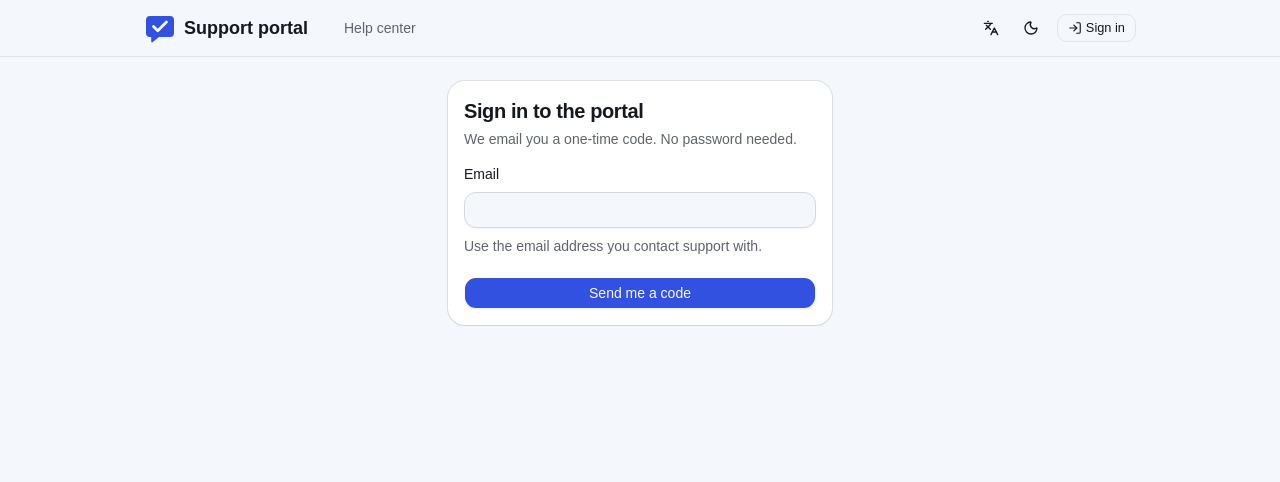
Portal sign-in › shows an error for a wrong code and stays on the sign-in page
Type "nour@customer.example" into the field labelled "Email" at (640, 210), box [464,192,816,228]
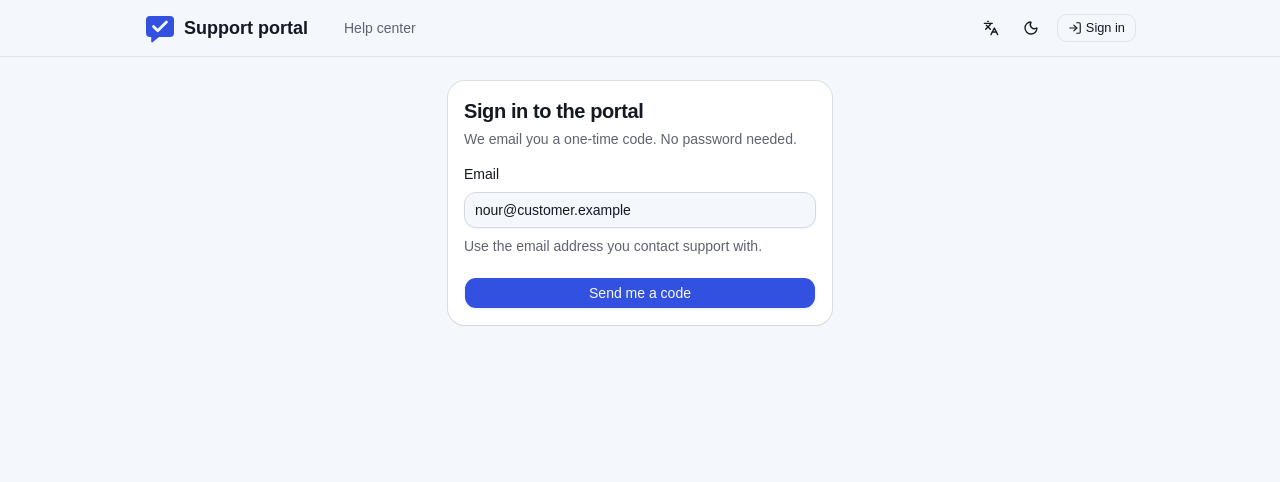
Click the button "Send me a code" at (640, 293), box [464,277,816,309]
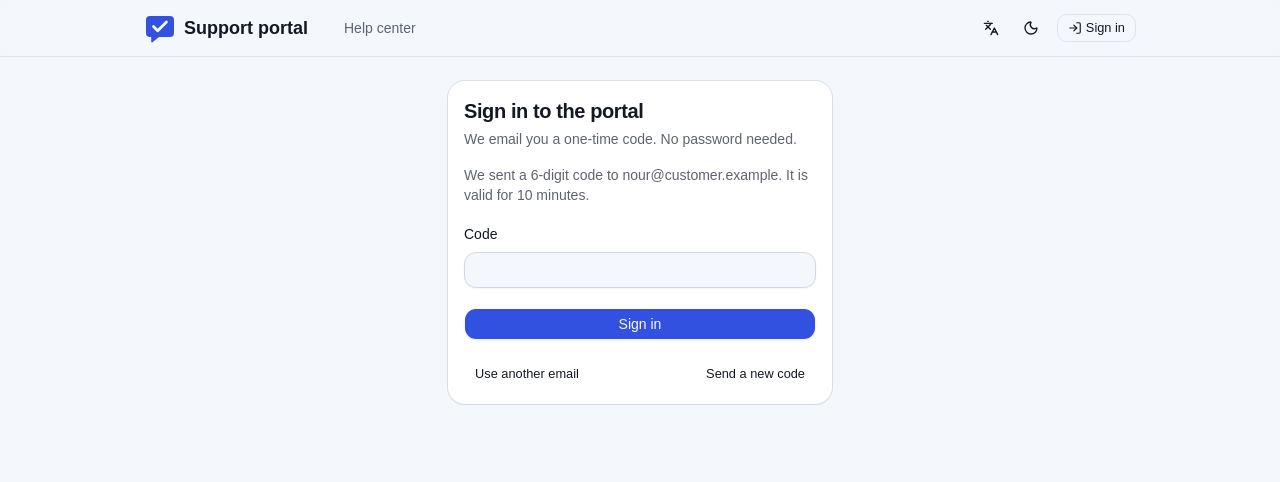
Check: the form named "Enter the code" is shown, box [464,165,816,388]
Type "000000" into the field labelled "Code" at (640, 270), box [464,252,816,288]
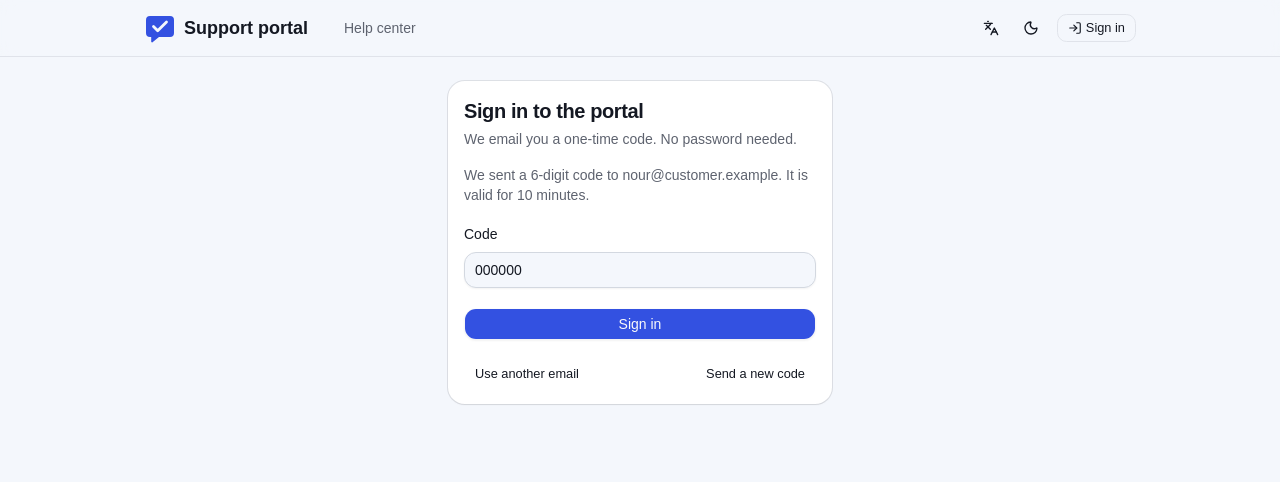
Click the button "Sign in" at (640, 324), box [464,308,816,340]
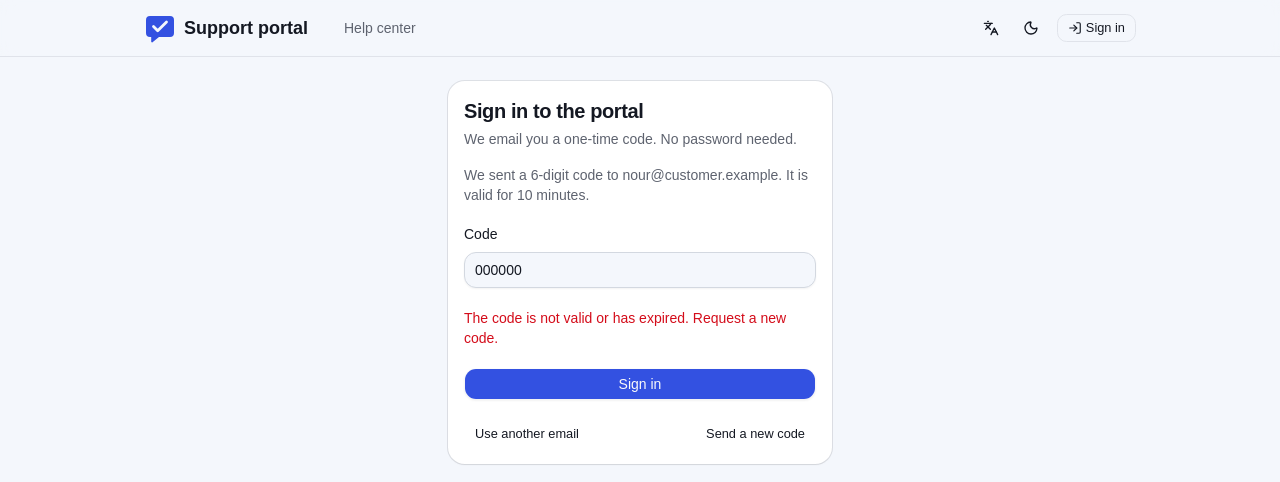
Check: the text "The code is not valid or has expired. Request a new code." is shown, box [464,308,816,348]
